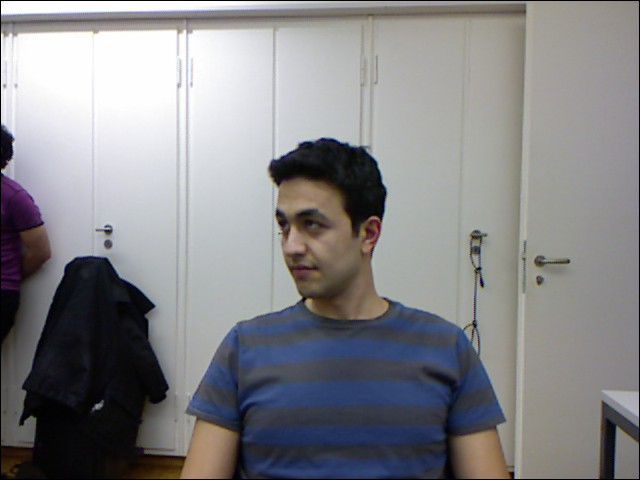deflection: (219, 154, 483, 480)
